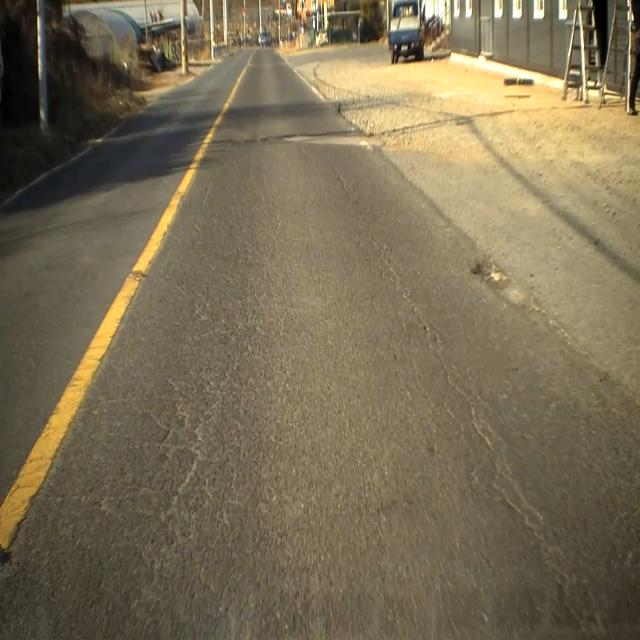Pothole: (470, 249, 526, 322)
